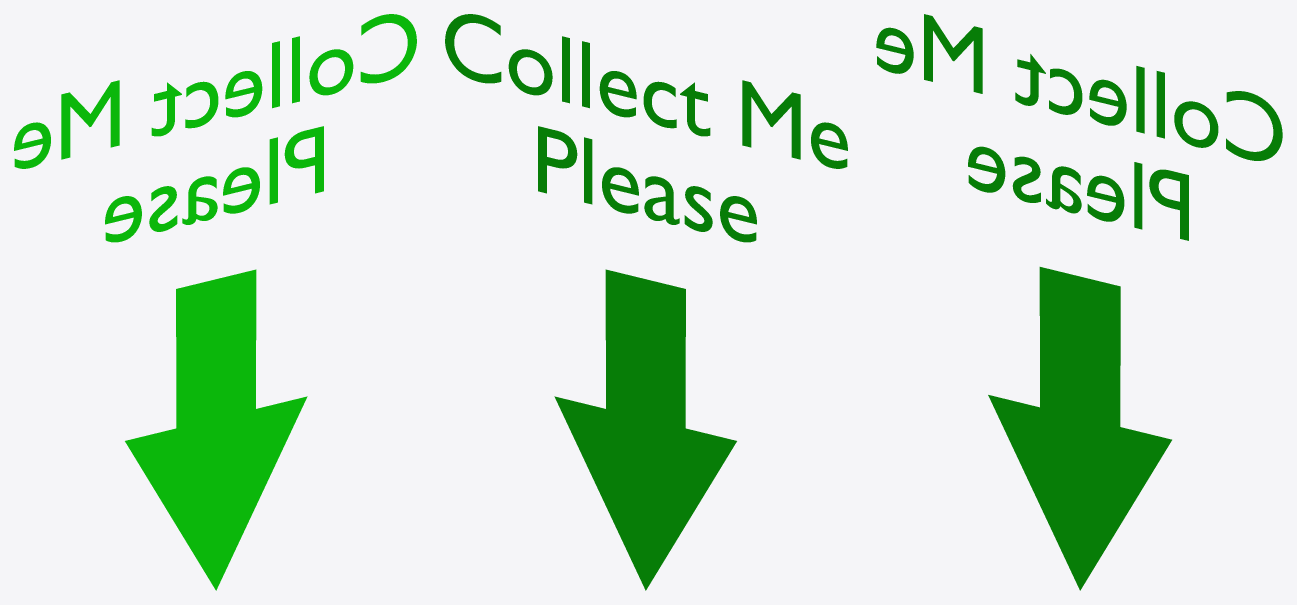
Rendered from CTA (OLD).glb.
3 views of the same model, side by side, from view 1: azimuth 30°, elevation 25°; view 2: azimuth 150°, elevation 25°; view 3: azimuth 330°, elevation 25° (orthographic).
Parts seen in each view (by area): view 1: Text; view 2: Text; view 3: Text.
Boxes of the visible parts, bbox=[...] form: Text: bbox=[14, 14, 416, 590]; Text: bbox=[445, 14, 847, 590]; Text: bbox=[876, 14, 1282, 590].
Bounding box in the file's own units: 4.4 × 5.59 × 4.54e-07.
